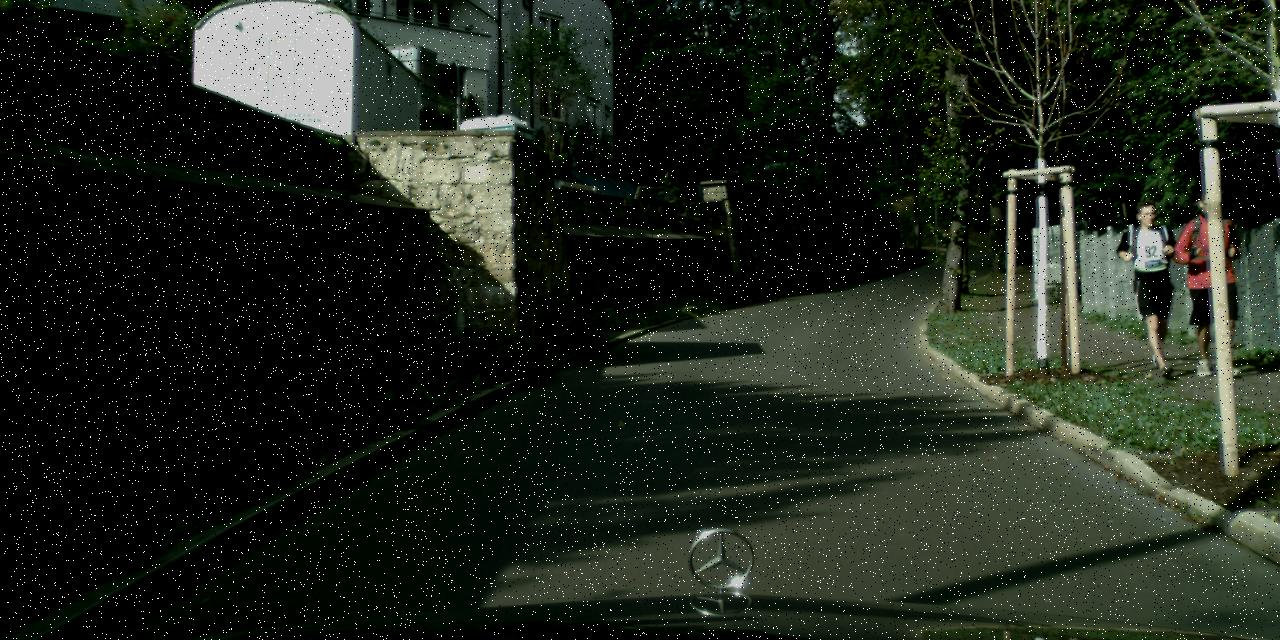ped: (1173, 188, 1251, 378), (1119, 200, 1192, 381)
